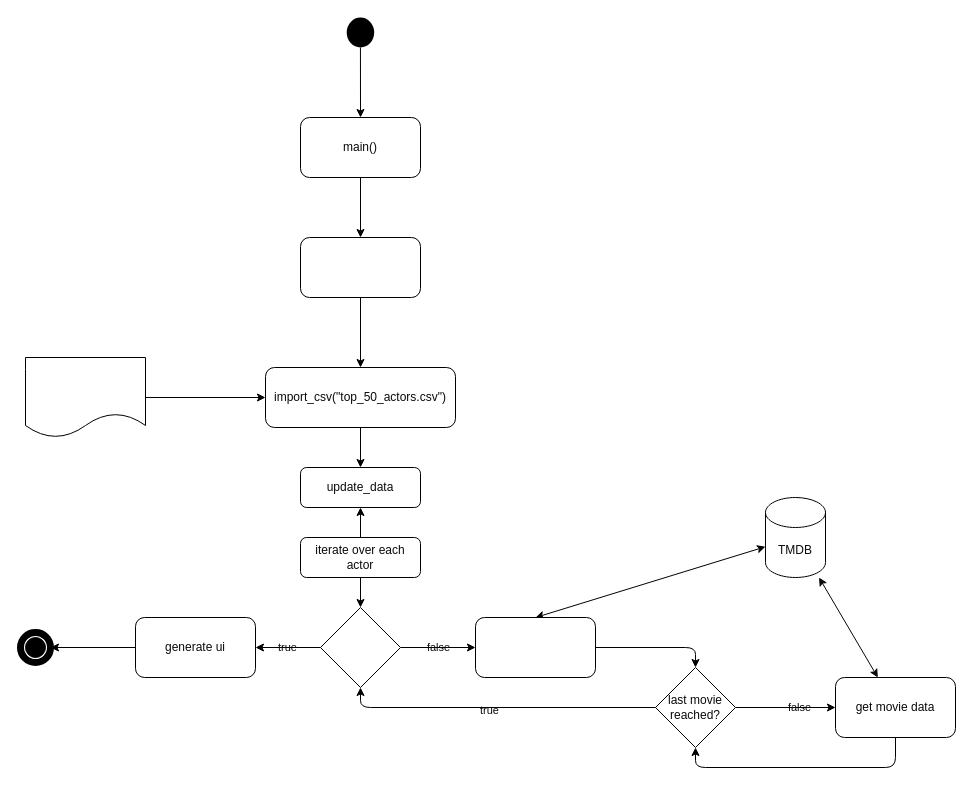
The diagram is 973 pixels wide and 793 high, and some of its shapes have lost their labels. The shapes that lost their labels are listed below. From the top down, each one's box as (x1, y1, x2, y2) in pixels, then its label:
(300, 236, 420, 298): create_ui()
(24, 356, 146, 438): top_50_actors.csv
(320, 606, 400, 688): last actor reached ?
(474, 616, 596, 678): get actor by name
